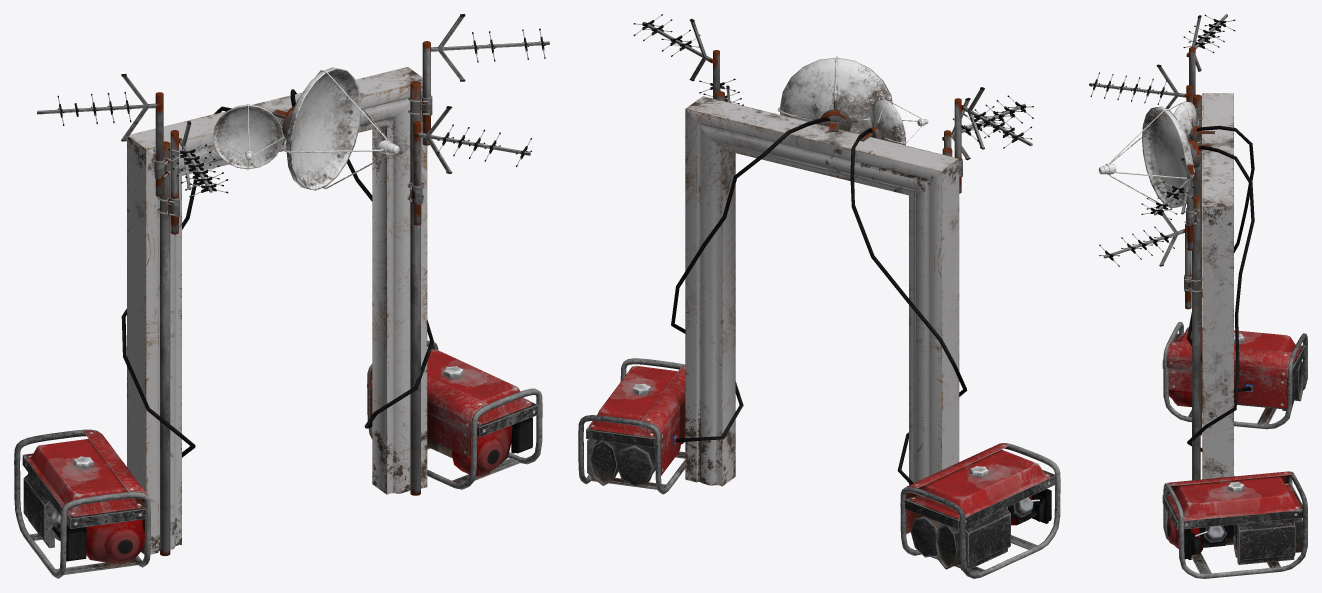
File: Indoorway.fbx
The picture shows the model from 3 angles, left to right: view 1: azimuth 30°, elevation 25°; view 2: azimuth 150°, elevation 25°; view 3: azimuth 270°, elevation 25°; orthographic projection. The views are drawn at different scales.
Parts seen in each view (by area): view 1: door frame.002, dish, generator.002, pole, pole.002, Cube.026, NurbsPath.001, generator.004, NurbsPath.003, Cylinder.008, clamp, clamp .004 (+12 smaller); view 2: door frame.002, dish, generator.002, generator.004, NurbsPath.001, NurbsPath.003, Cube.010, Cube.025, NurbsPath.004, clamp .004, Cube.014, Cube.008 (+10 smaller); view 3: door frame.002, generator.004, dish, Cube.020, pole.002, NurbsPath.003, NurbsPath.002, generator.001, NurbsPath.001, Cube.025, Cube.017, clamp .013 (+15 smaller).
Part boxes in pixels (bbox=[...]): door frame.002: bbox=[127, 67, 427, 554]; dish: bbox=[286, 67, 361, 190]; generator.002: bbox=[26, 439, 142, 516]; pole: bbox=[160, 141, 170, 556]; pole.002: bbox=[410, 81, 420, 495]; Cube.026: bbox=[211, 104, 284, 170]; NurbsPath.001: bbox=[14, 429, 150, 578]; generator.004: bbox=[427, 349, 531, 424]; NurbsPath.003: bbox=[367, 340, 542, 489]; Cylinder.008: bbox=[86, 519, 144, 564]; clamp: bbox=[168, 121, 228, 234]; clamp .004: bbox=[37, 74, 165, 196]; door frame.002: bbox=[685, 96, 959, 486]; dish: bbox=[779, 58, 892, 134]; generator.002: bbox=[910, 449, 1050, 518]; generator.004: bbox=[589, 365, 677, 436]; NurbsPath.001: bbox=[900, 443, 1060, 578]; NurbsPath.003: bbox=[578, 358, 685, 494]; Cube.010: bbox=[961, 507, 1010, 570]; Cube.025: bbox=[671, 117, 830, 442]; NurbsPath.004: bbox=[641, 365, 685, 443]; clamp .004: bbox=[954, 87, 1032, 193]; Cube.014: bbox=[850, 129, 967, 484]; Cube.008: bbox=[905, 470, 1054, 529]; door frame.002: bbox=[1202, 93, 1233, 479]; generator.004: bbox=[1167, 476, 1301, 520]; dish: bbox=[1142, 106, 1192, 208]; Cube.020: bbox=[1237, 519, 1295, 564]; pole.002: bbox=[1192, 195, 1200, 480]; NurbsPath.003: bbox=[1163, 471, 1307, 578]; NurbsPath.002: bbox=[1166, 341, 1291, 379]; generator.001: bbox=[1168, 368, 1286, 408]; NurbsPath.001: bbox=[1163, 322, 1307, 429]; Cube.025: bbox=[1187, 146, 1254, 476]; Cube.017: bbox=[1162, 482, 1302, 529]; clamp .013: bbox=[1099, 211, 1191, 309].
Bounding box in the file's own units: 255 × 247 × 122.
2 materials, 1 textured.
